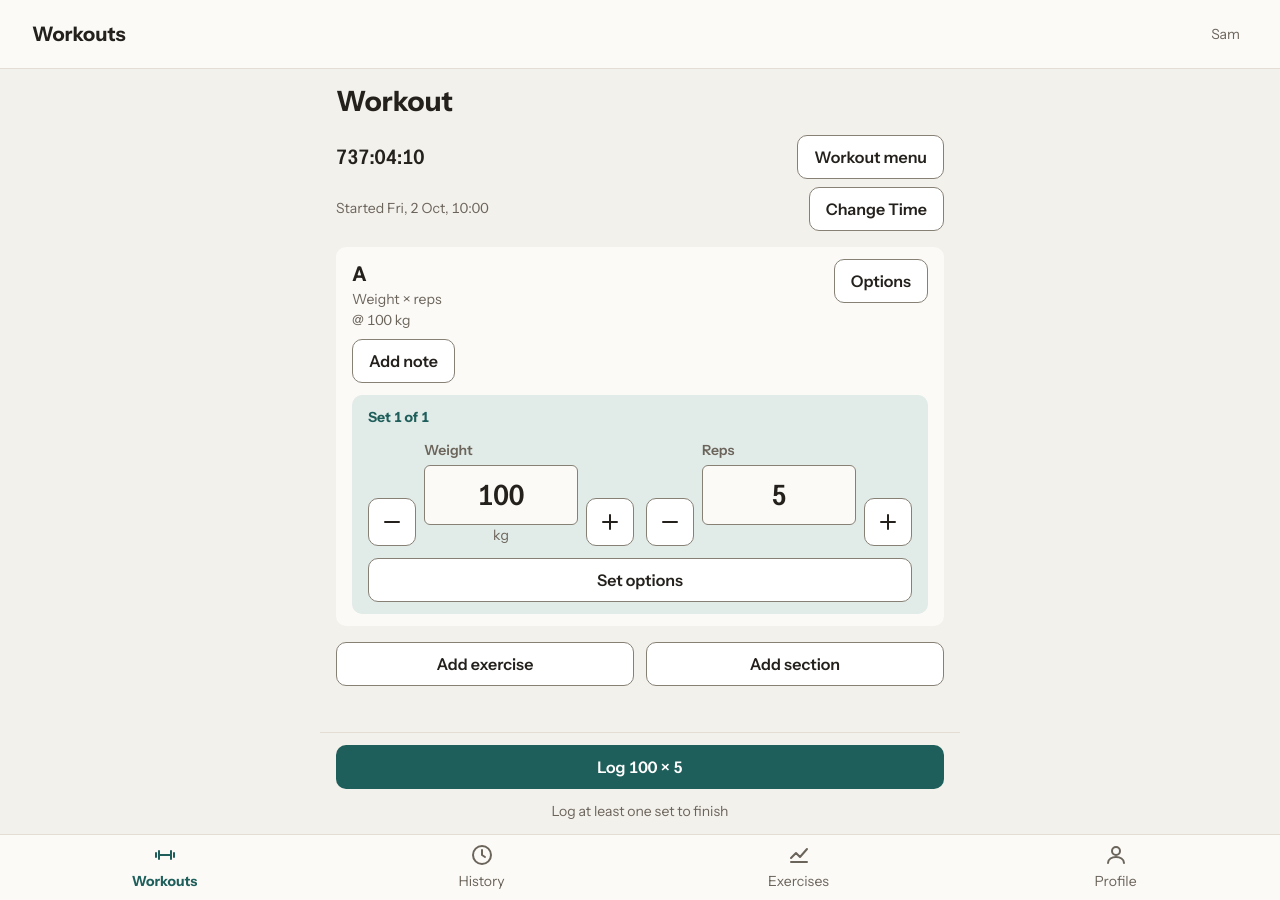
Scenario: 17.1 AC28 — Finish keeps every rule › is disabled while a set is not saved, with today's hint
The image size is (1280, 900).
Expected: the heading "Workout" is shown, [336, 84, 453, 118]
Click the button "Log 100 × 5": [640, 767] box [336, 745, 944, 789]
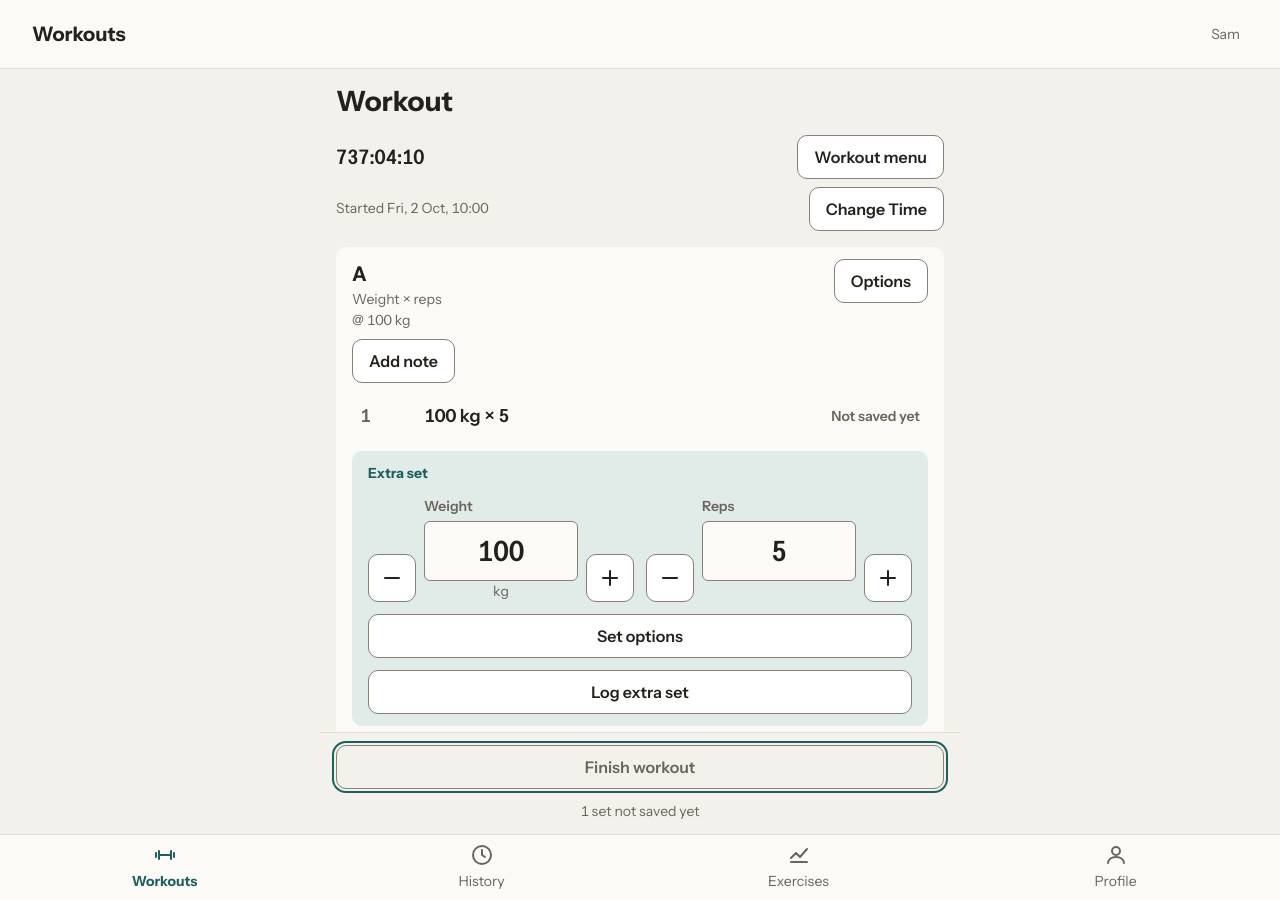
Result: the text "1 set not saved yet" is shown at [580, 802, 700, 820]
